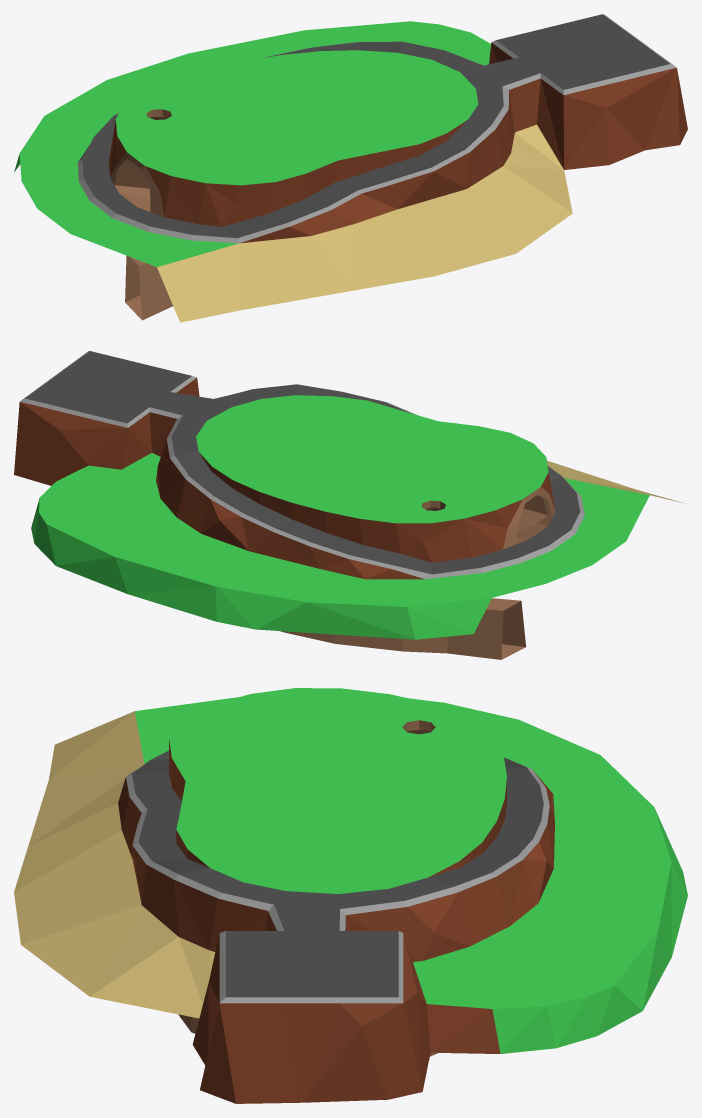
File: ForestCave.fbx
3 views of the same model, one above another, from view 1: azimuth 30°, elevation 25°; view 2: azimuth 150°, elevation 25°; view 3: azimuth 270°, elevation 25° (orthographic). The views are drawn at different scales.
Parts seen in each view (by area): view 1: ForestCave; view 2: ForestCave; view 3: ForestCave.
Part boxes in pixels (bbox=[...]): ForestCave: bbox=[14, 14, 687, 322]; ForestCave: bbox=[14, 351, 683, 659]; ForestCave: bbox=[14, 688, 687, 1103].
Bounding box in the file's own units: 2380 × 616 × 1816.
